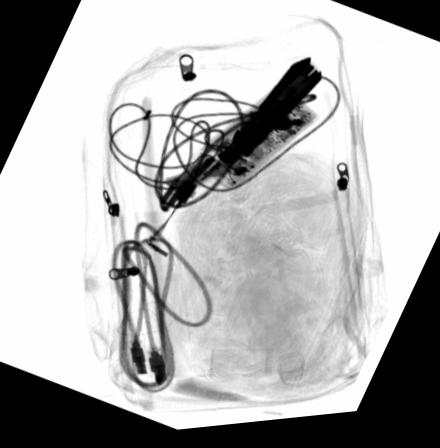Knife: (202, 62, 323, 181)
